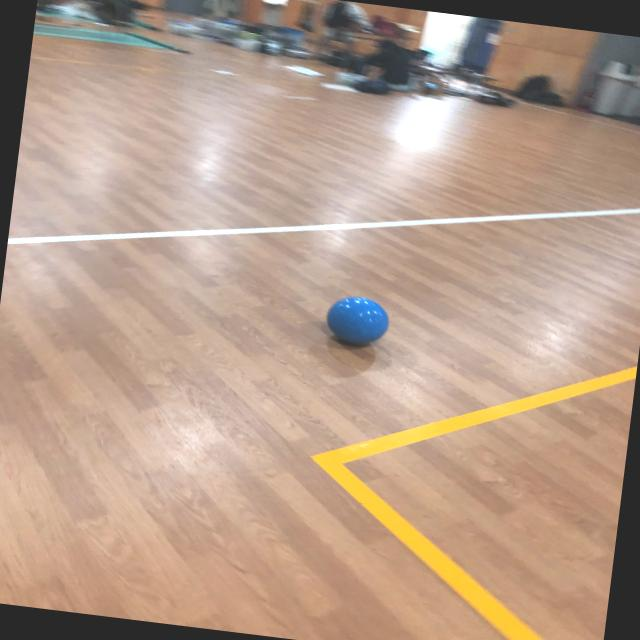blue_ball: (322, 294, 394, 348)
